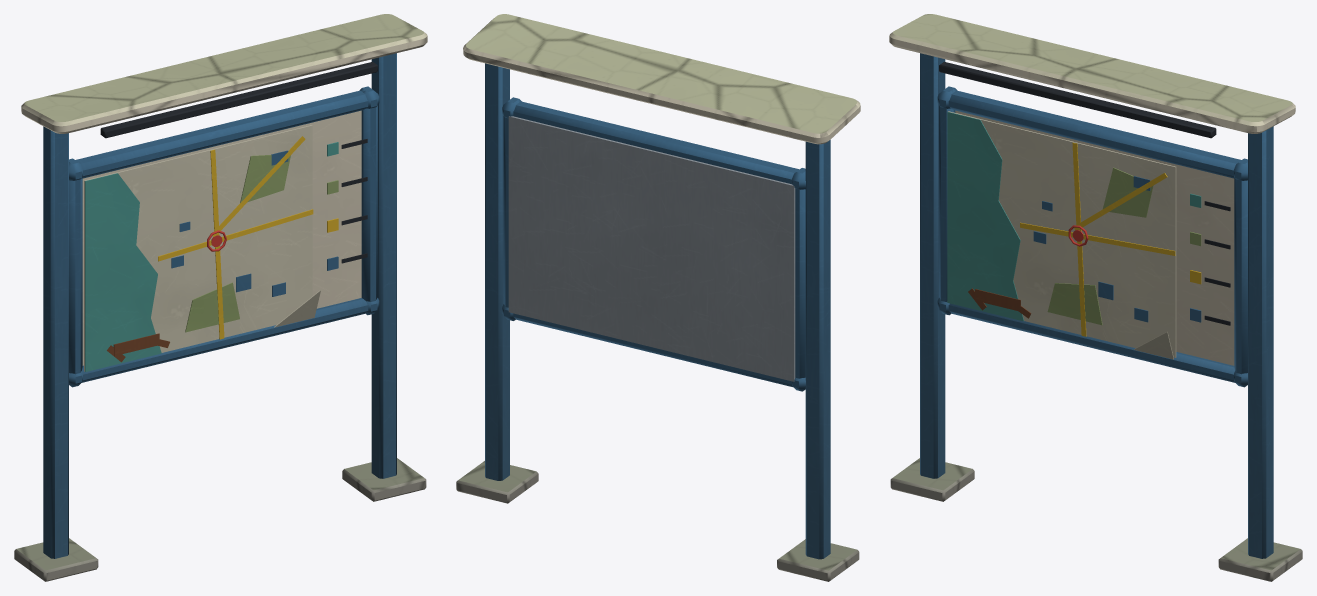
File: info_board.glb
The picture shows the model from 3 angles, left to right: view 1: azimuth 30°, elevation 25°; view 2: azimuth 150°, elevation 25°; view 3: azimuth 330°, elevation 25°; orthographic projection. The views are drawn at different scales.
Parts seen in each view (by area): view 1: info_board; view 2: info_board; view 3: info_board.
Boxes of the visible parts, x1,y1,x2,y2 form: info_board: (14, 14, 427, 581); info_board: (456, 14, 860, 581); info_board: (889, 14, 1302, 581).
Bounding box in the file's own units: 2.1 × 2.43 × 0.4009.
13 materials, 13 textured.
